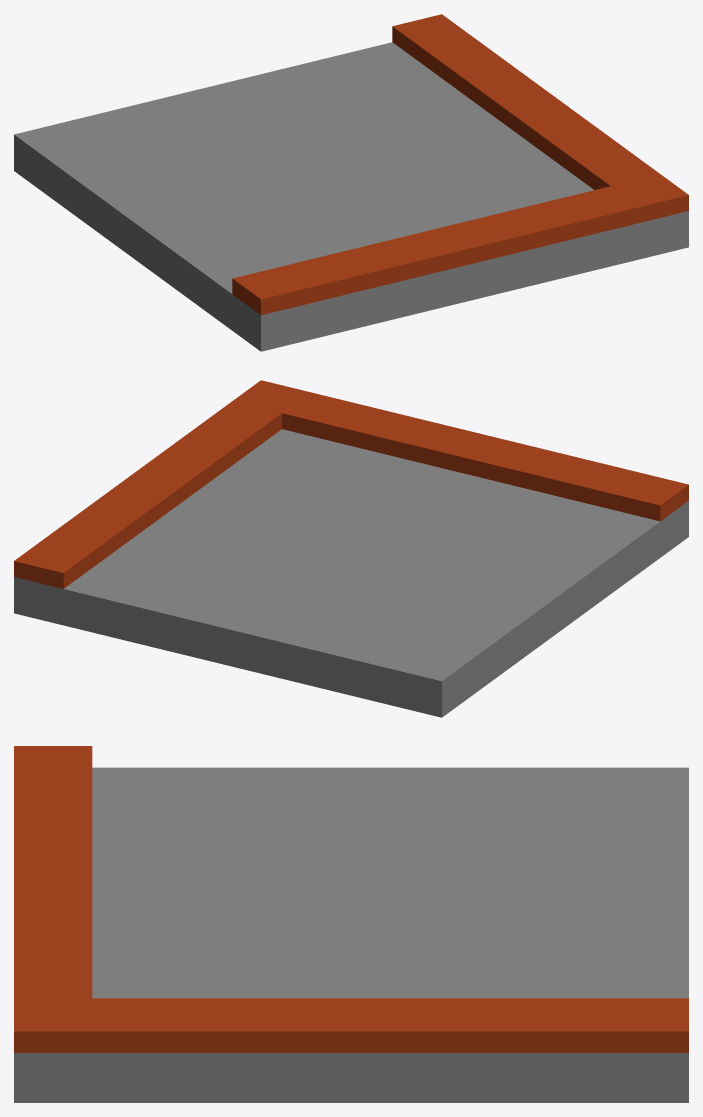
The model's file is Corner_Sidewalk.fbx.
3 renders of one model, top to bottom at view 1: azimuth 30°, elevation 25°; view 2: azimuth 150°, elevation 25°; view 3: azimuth 270°, elevation 25°, orthographic. The views are drawn at different scales.
Visible parts, largest first — view 1: Corner_Sidewalk; view 2: Corner_Sidewalk; view 3: Corner_Sidewalk.
Boxes of the visible parts, bbox=[...] form: Corner_Sidewalk: bbox=[14, 14, 688, 351]; Corner_Sidewalk: bbox=[14, 380, 688, 717]; Corner_Sidewalk: bbox=[14, 746, 688, 1102].
Size of the model in its own units: 130 by 15.14 by 130.
Materials: 1 (1 with a texture image).
